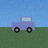vehicle: (12, 17, 35, 33)
